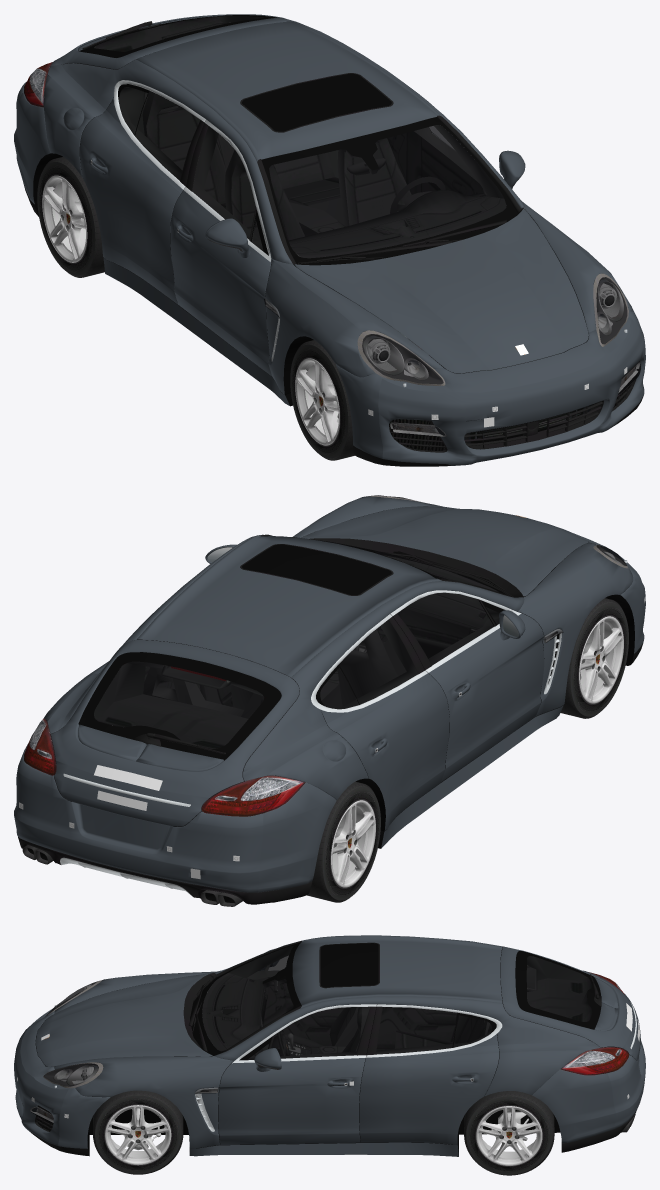
Rendered from panamera.FBX.
The picture shows the model from 3 angles, top to bottom: view 1: azimuth 30°, elevation 25°; view 2: azimuth 150°, elevation 25°; view 3: azimuth 270°, elevation 25°; orthographic projection. The views are drawn at different scales.
Visible parts, largest first — view 1: object0, Object01, Object02; view 2: object0, Object01, Object02; view 3: object0, Object01, Object02.
Boxes of the visible parts, x1=… form: object0: x1=14, y1=14, x2=645, y2=466; Object01: x1=37, y1=157, x2=354, y2=460; Object02: x1=42, y1=175, x2=339, y2=445; object0: x1=14, y1=495, x2=645, y2=906; Object01: x1=307, y1=598, x2=628, y2=902; Object02: x1=331, y1=616, x2=623, y2=887; object0: x1=14, y1=935, x2=645, y2=1158; Object01: x1=93, y1=1090, x2=554, y2=1175; Object02: x1=105, y1=1105, x2=542, y2=1165.
Size of the model in its own units: 1074 by 716 by 2515.
